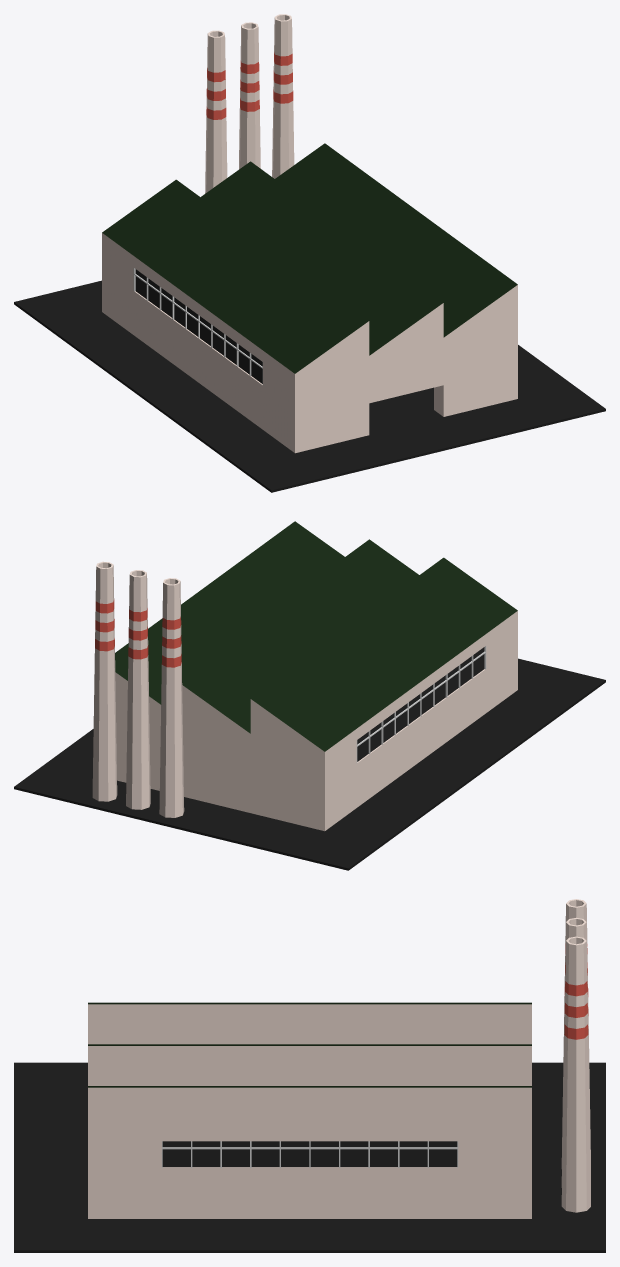
The model's file is Factory.fbx.
3 views of the same model, one above another, from view 1: azimuth 30°, elevation 25°; view 2: azimuth 150°, elevation 25°; view 3: azimuth 270°, elevation 25° (orthographic). The views are drawn at different scales.
Visible parts, largest first — view 1: Factory, Factory Base, Road; view 2: Factory, Factory Base; view 3: Factory, Factory Base, Road.
Part boxes in pixels (bbox=[...]): Factory: bbox=[102, 14, 517, 453]; Factory Base: bbox=[14, 280, 605, 492]; Road: bbox=[362, 391, 483, 462]; Factory: bbox=[92, 521, 517, 831]; Factory Base: bbox=[14, 658, 605, 870]; Factory: bbox=[88, 899, 590, 1218]; Factory Base: bbox=[14, 1062, 605, 1252]; Road: bbox=[14, 1131, 87, 1181].
Bounding box in the file's own units: 3000 × 2000 × 4000.
